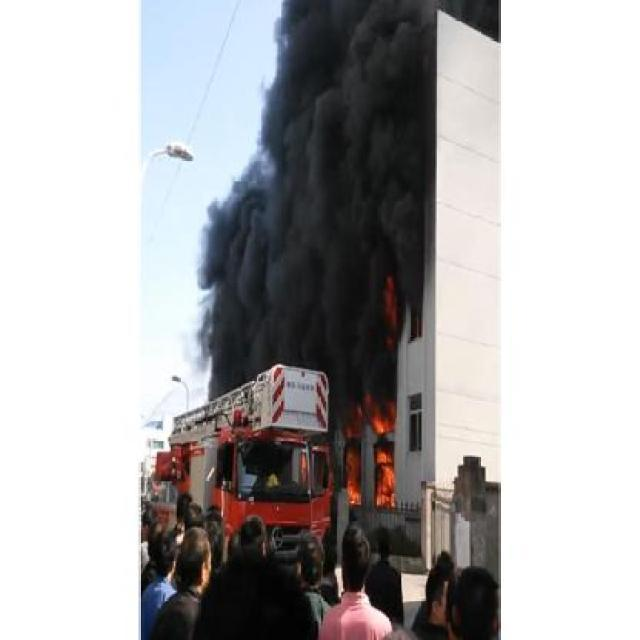Fire: (343, 398, 397, 506), (382, 272, 404, 358)
Smoke: (208, 0, 376, 391), (380, 2, 428, 272)
